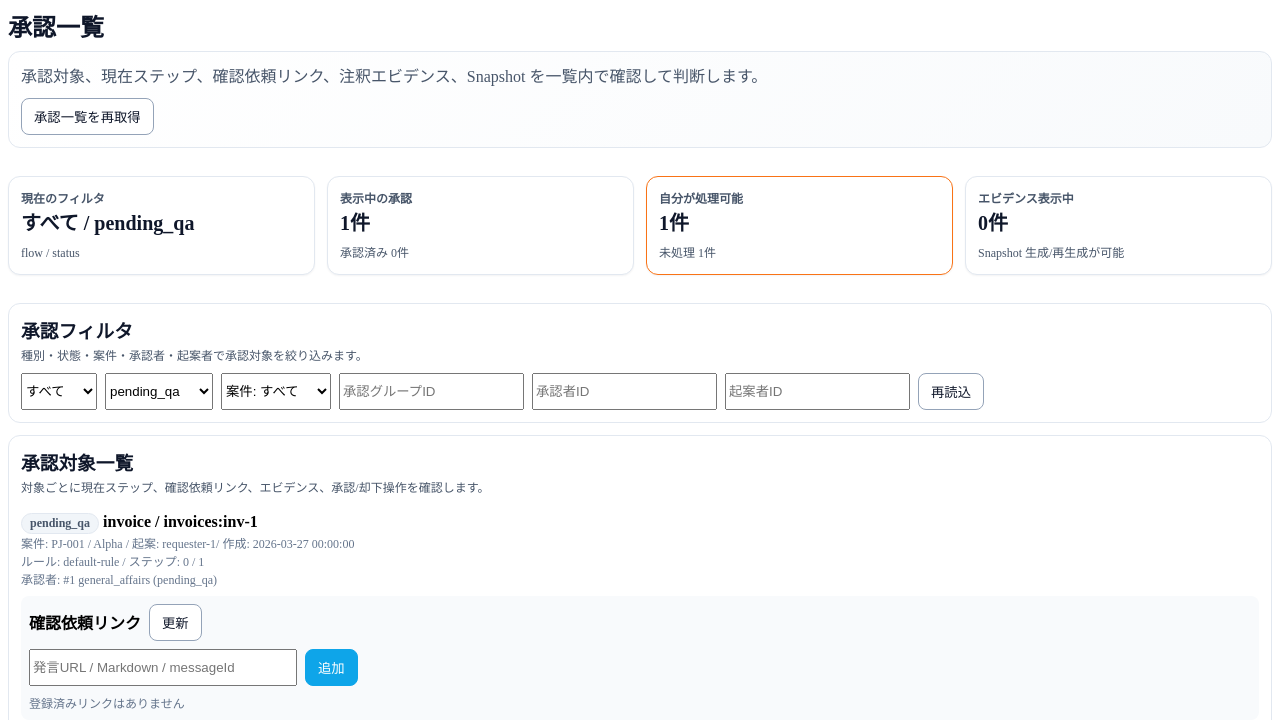
Approvals › validates chat ack link input before issuing a create request
Expected: the text "pending_qa invoice / invoices:inv-1" is shown, [21,513,258,534]
Click the button "追加" at (331, 667), box [305,649,358,686]
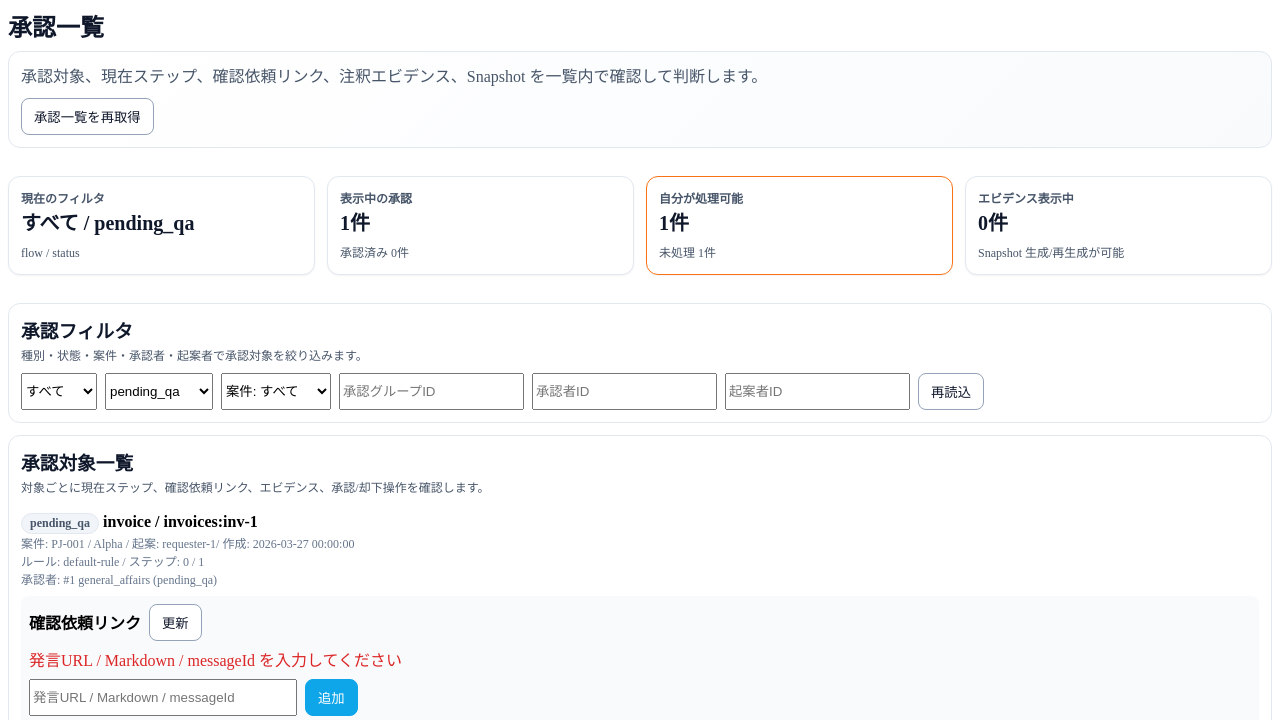
Now the text "発言URL / Markdown / messageId を入力してください" is shown, box [29,652,402,669]
